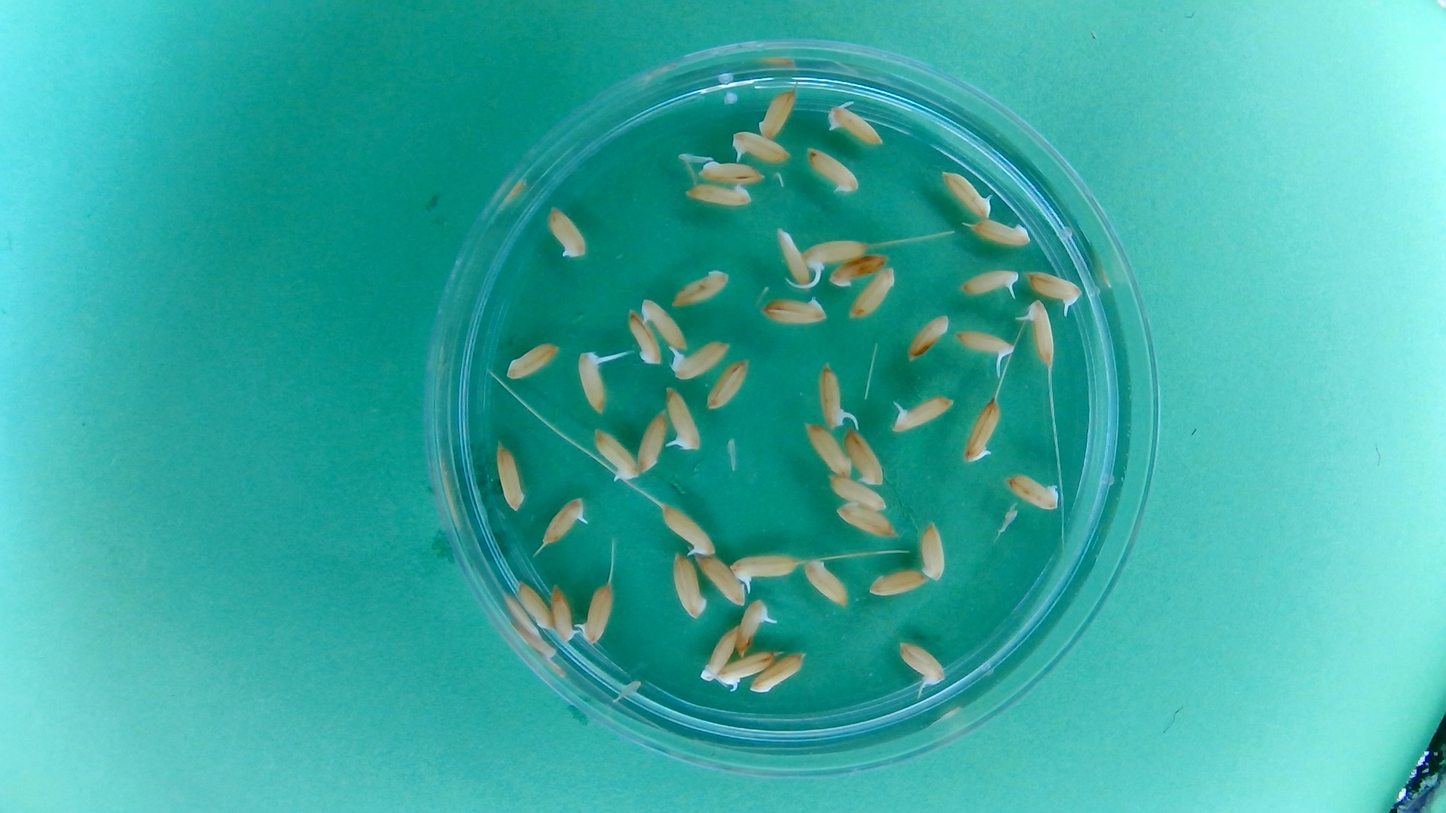no: (694, 553, 748, 607), (803, 422, 852, 480), (804, 145, 860, 195), (962, 396, 1002, 466), (848, 264, 898, 320), (749, 650, 809, 696), (843, 425, 886, 489), (639, 295, 688, 350), (705, 356, 752, 412), (670, 266, 731, 309), (545, 202, 590, 260), (670, 550, 707, 620), (503, 339, 563, 382), (493, 440, 528, 513), (801, 557, 850, 609), (831, 502, 898, 540), (1005, 470, 1063, 513), (774, 227, 814, 289), (697, 625, 739, 683), (905, 311, 951, 363), (634, 406, 668, 476), (825, 473, 887, 511), (755, 86, 798, 140), (624, 306, 662, 367), (758, 294, 828, 327), (514, 577, 555, 632), (828, 252, 890, 288), (966, 216, 1033, 248), (918, 519, 949, 583), (683, 181, 753, 209), (866, 568, 930, 598), (694, 157, 765, 184), (548, 583, 577, 644)
yes: (660, 502, 716, 559), (938, 169, 996, 220), (667, 338, 732, 381), (592, 425, 640, 483), (664, 385, 703, 454), (539, 495, 590, 547), (1025, 267, 1083, 312), (889, 394, 954, 433), (729, 551, 801, 586), (577, 581, 615, 647), (575, 347, 611, 416), (827, 104, 883, 148), (1019, 298, 1055, 366), (896, 639, 947, 687), (715, 649, 778, 687), (801, 236, 871, 269), (735, 598, 773, 658), (816, 363, 849, 431), (954, 327, 1015, 361), (731, 129, 792, 163), (957, 265, 1021, 297)
